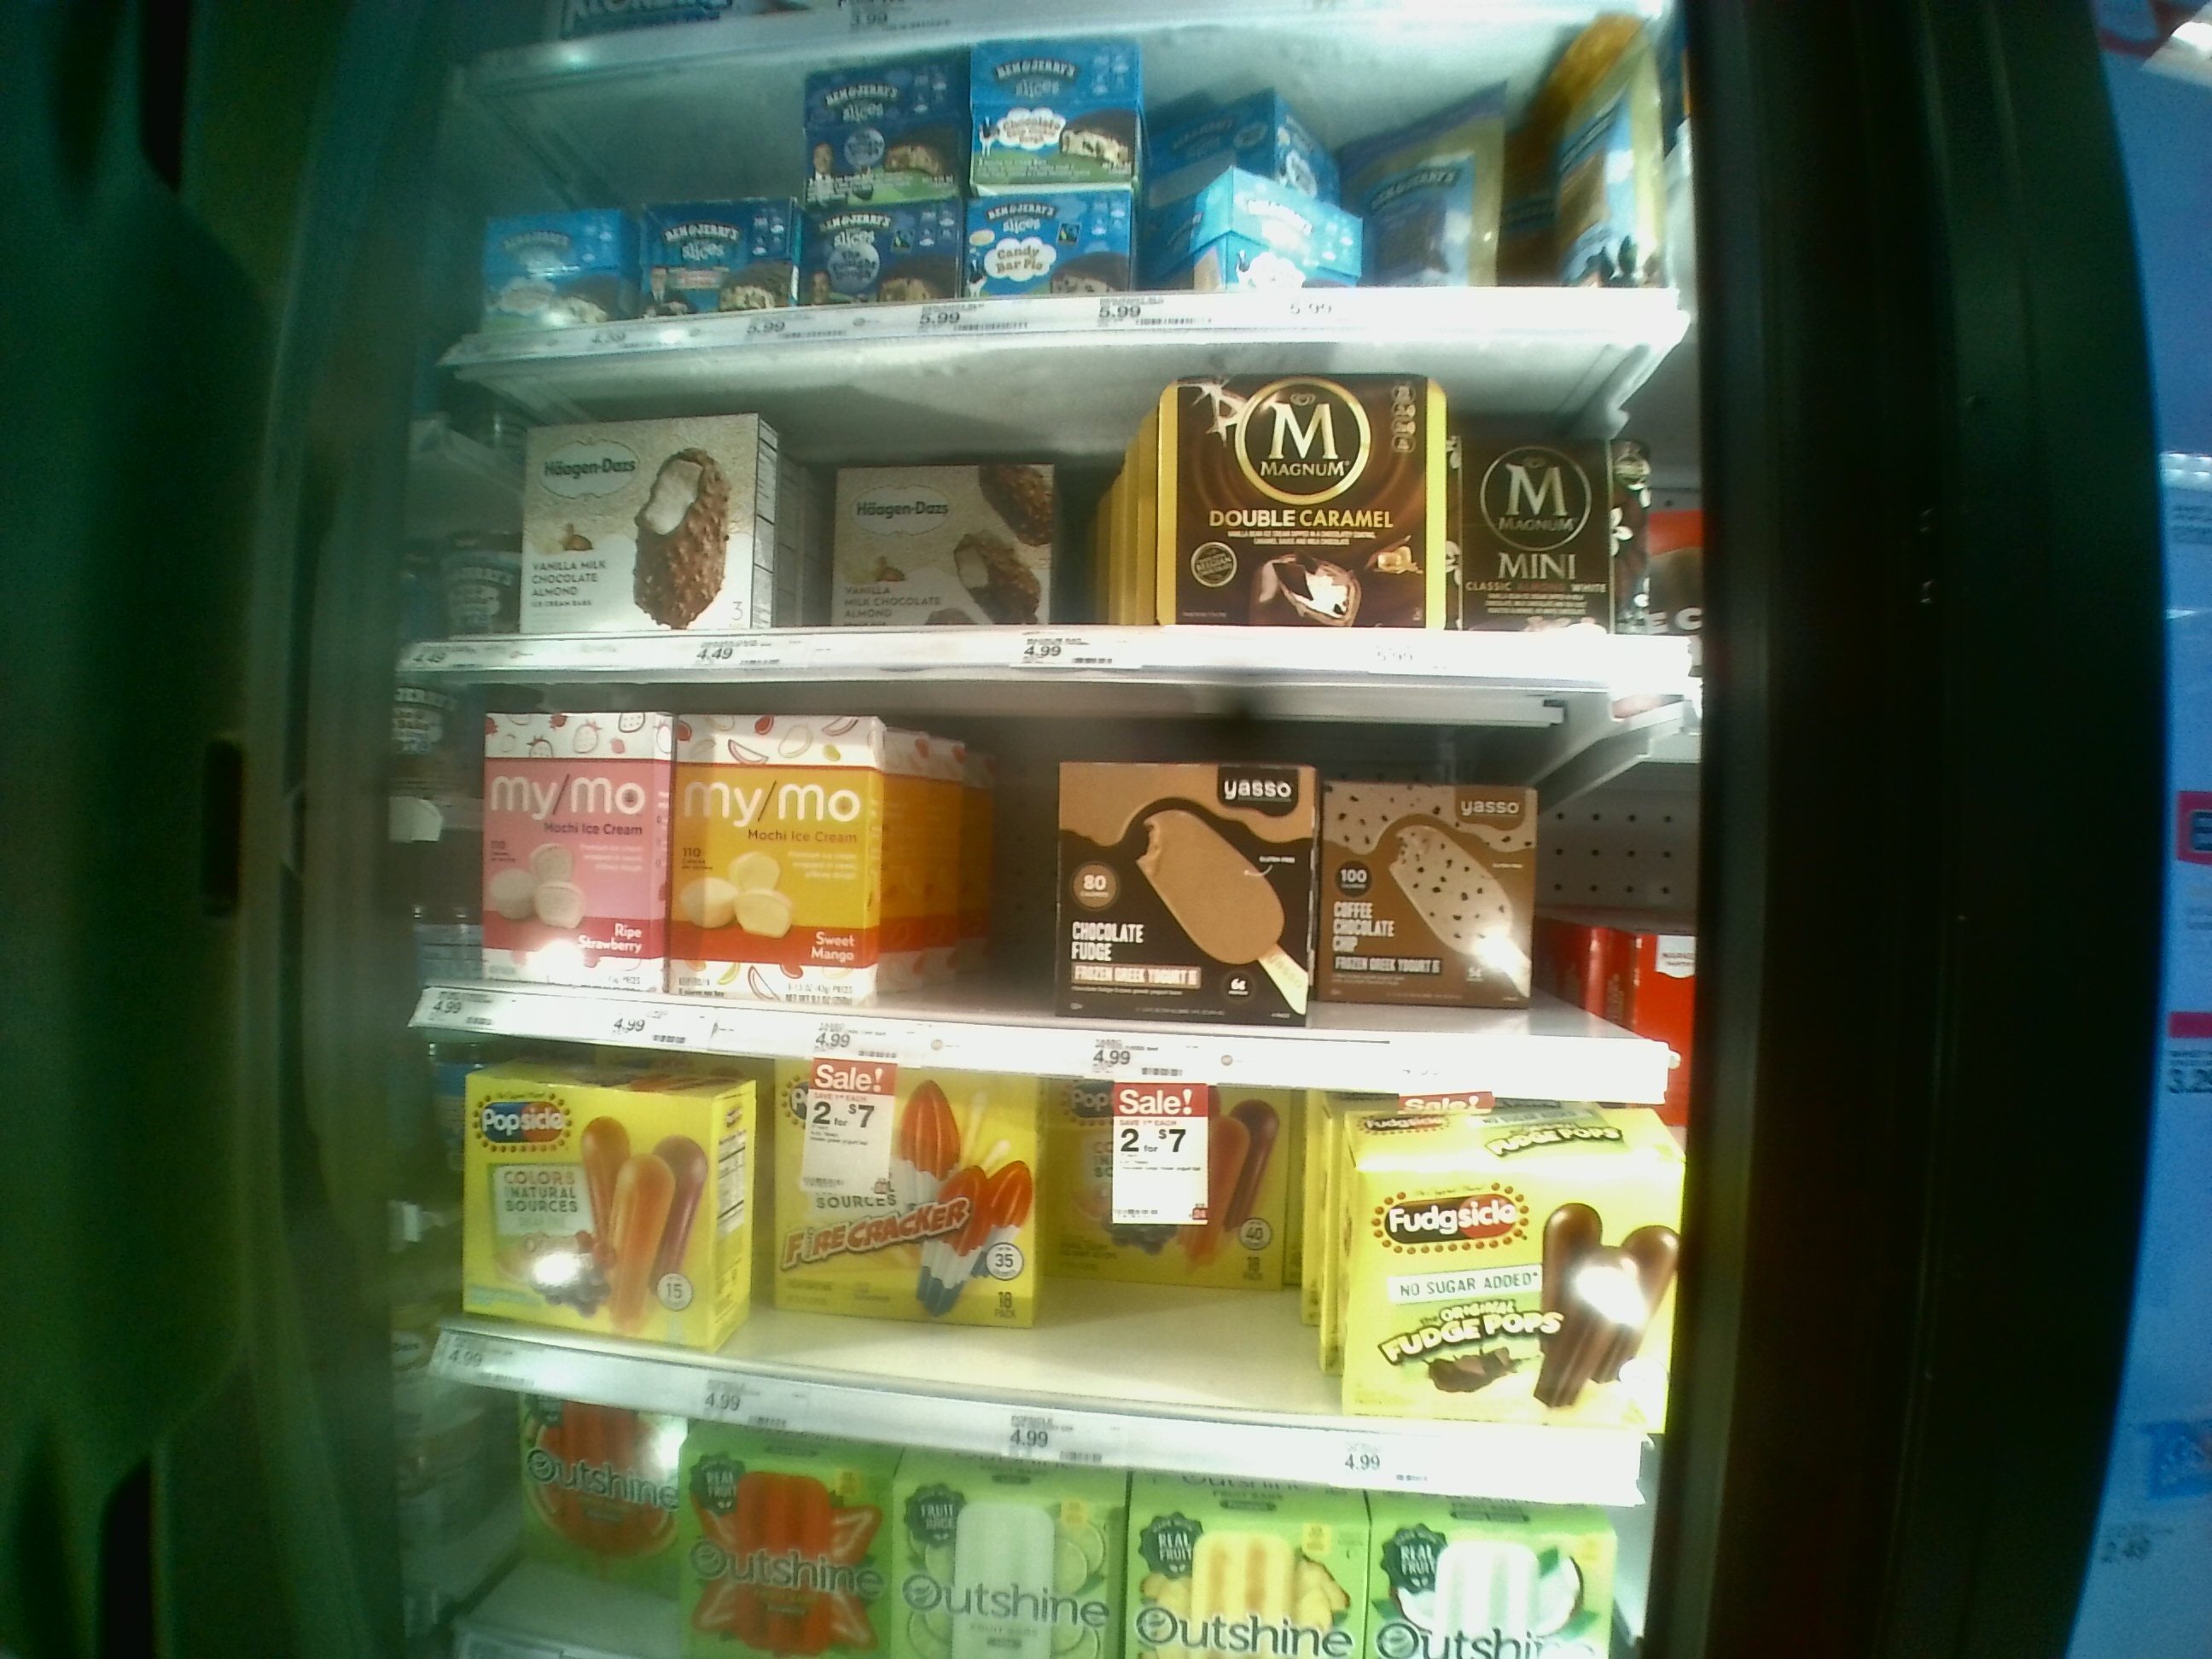ice-cream-shelf: (409, 676, 1696, 1105), (409, 357, 1716, 676)
